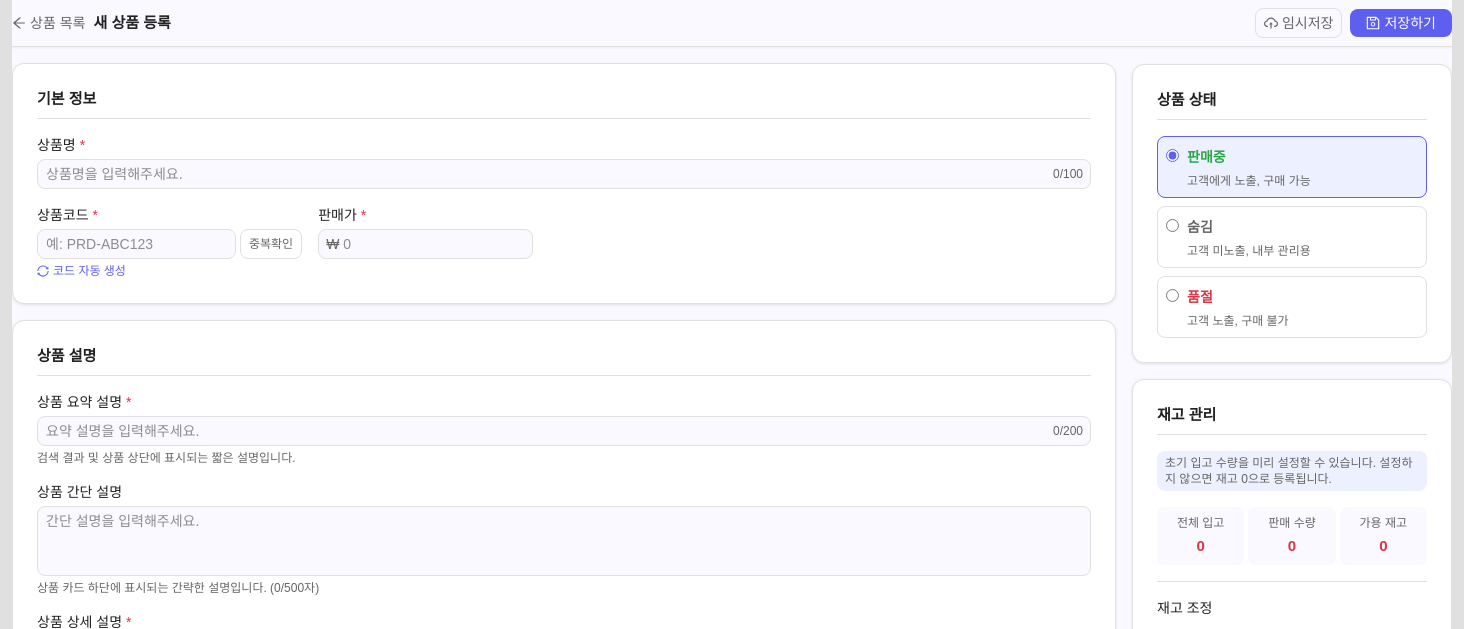
Test: 상품코드 중복 확인 › 중복 코드 확인 시 에러 메시지 표시
Type "KB-MXS-BLK" into the field with placeholder "예: PRD-ABC123" at (136, 244), box [37,229,236,259]
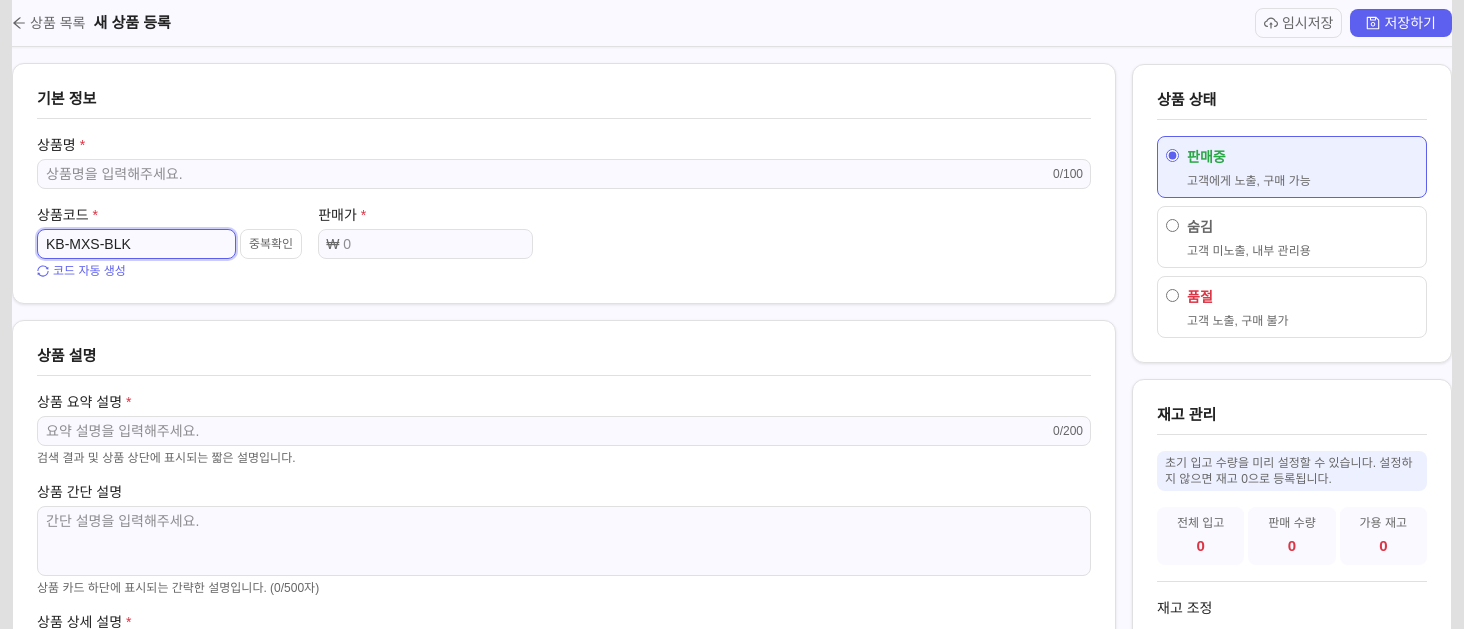
Click the button with aria-label "상품코드 중복 확인" at (271, 244), box [240,229,302,259]
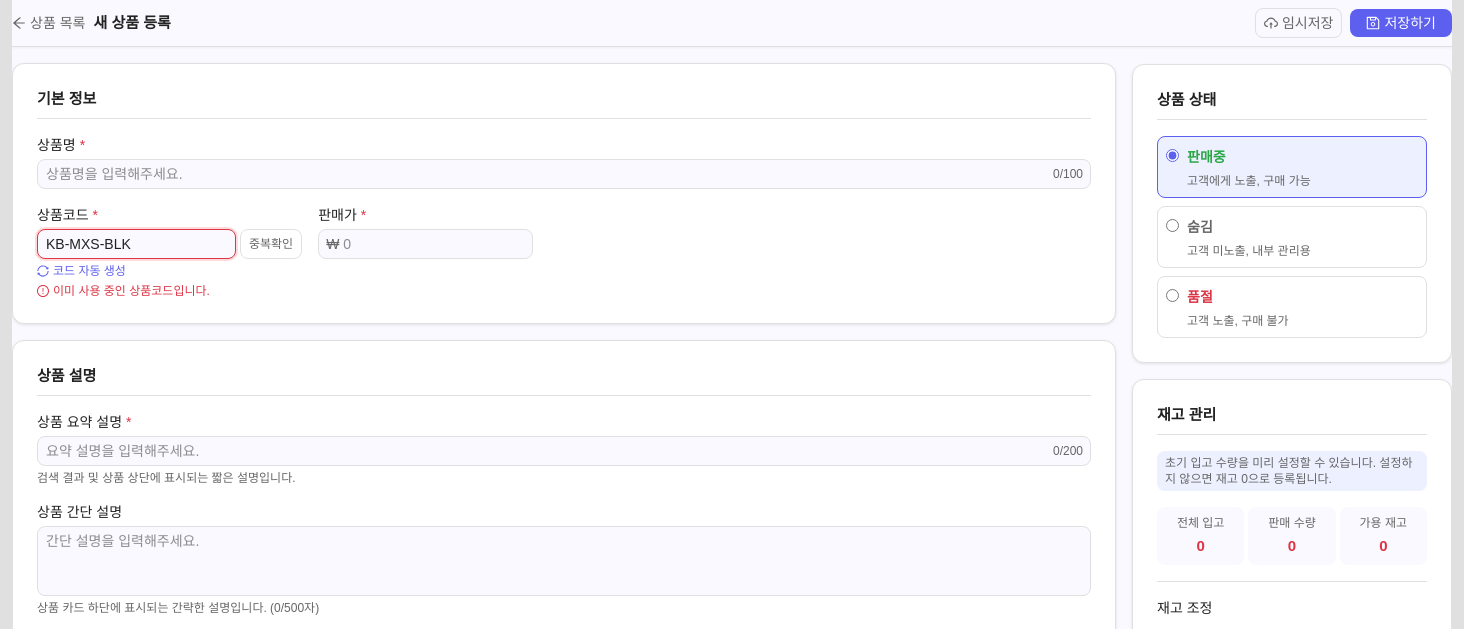
Expected: the text "이미 사용 중인 상품코드입니다." is shown, [37,284,210,298]
